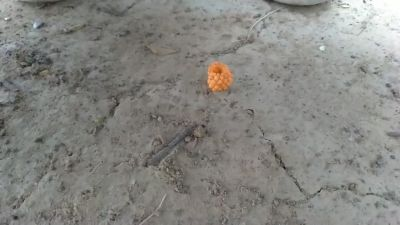eggs: (205, 61, 235, 92)
